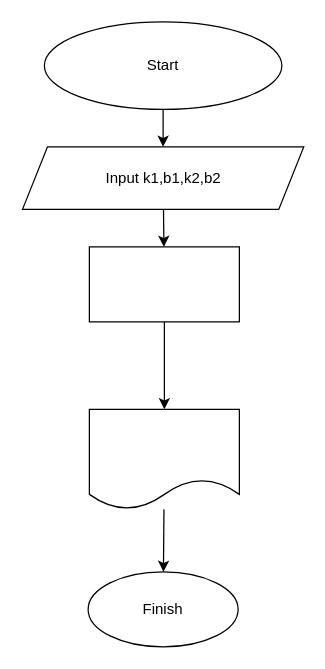
Image size: 325x669. Some labels were removed from this diagram. Each missing label, with the centre of its shape:
Print x,y: pixel 163 458
x=(b2-b1)/(k1-k2) y=k1*x+b1: pixel 163 284
